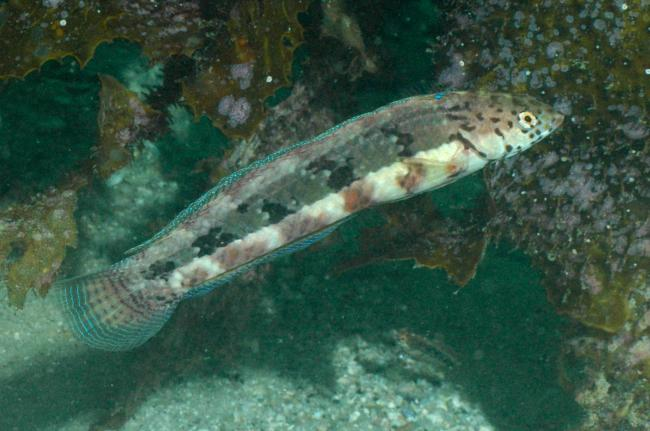fish: (54, 89, 566, 354)
